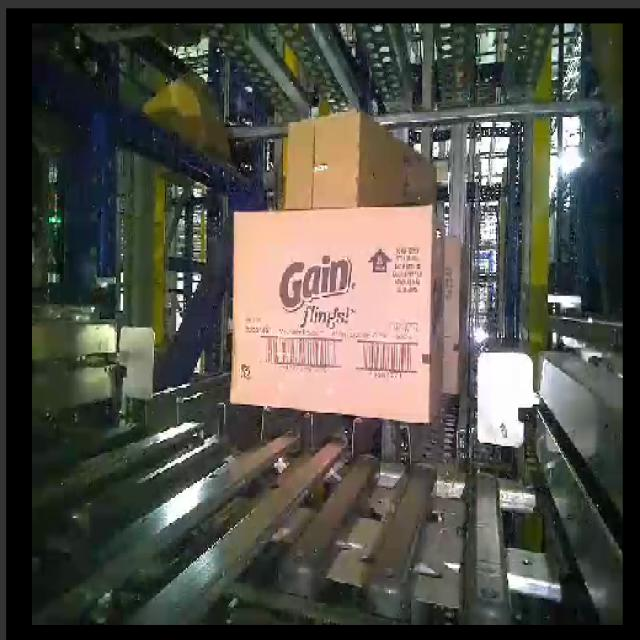box: (229, 200, 435, 425)
